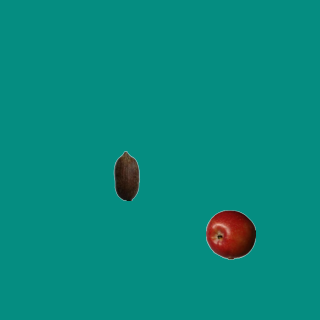Apple Braeburn: (205, 209, 255, 259)
Nut Pecan: (101, 150, 151, 200)
